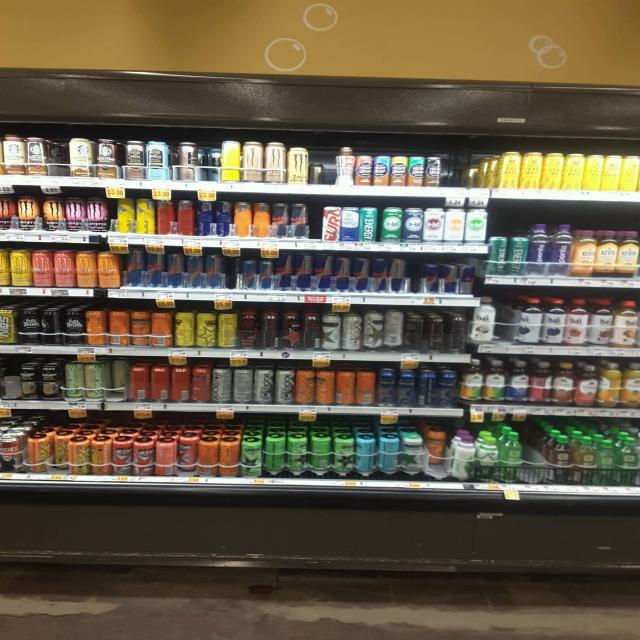unorganised: (427, 426, 447, 466), (178, 435, 198, 470), (54, 432, 70, 468), (110, 360, 127, 393), (203, 149, 219, 180), (310, 164, 324, 184)
